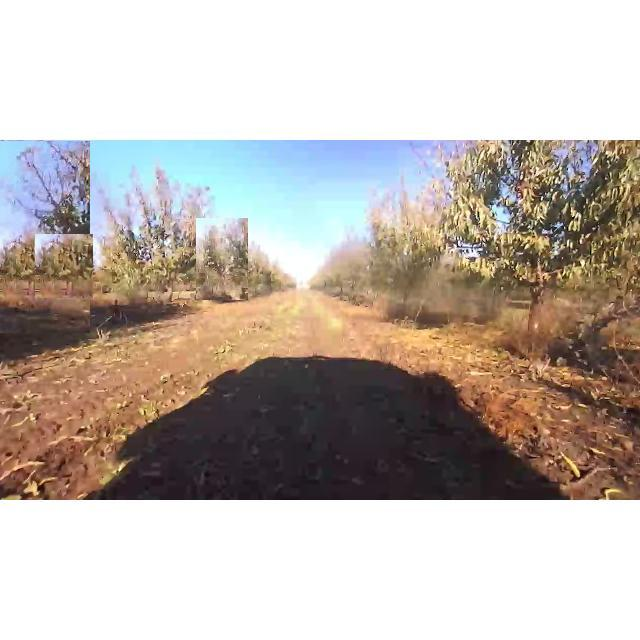direk: (440, 142, 640, 366), (102, 160, 216, 312), (0, 141, 90, 333), (370, 180, 462, 332), (196, 218, 248, 300), (35, 234, 93, 298), (330, 242, 362, 302)
